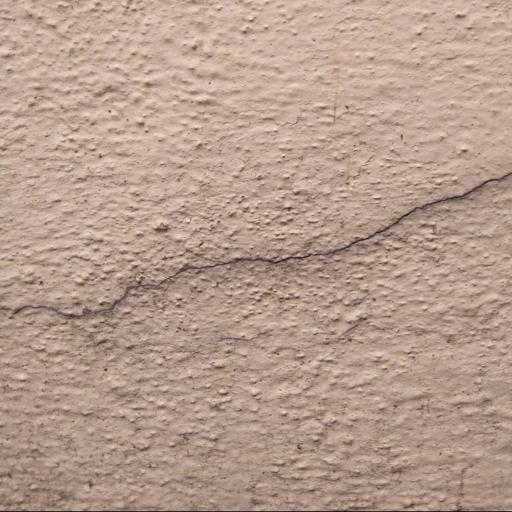minor_crack: (12, 158, 511, 336), (447, 447, 489, 512)
